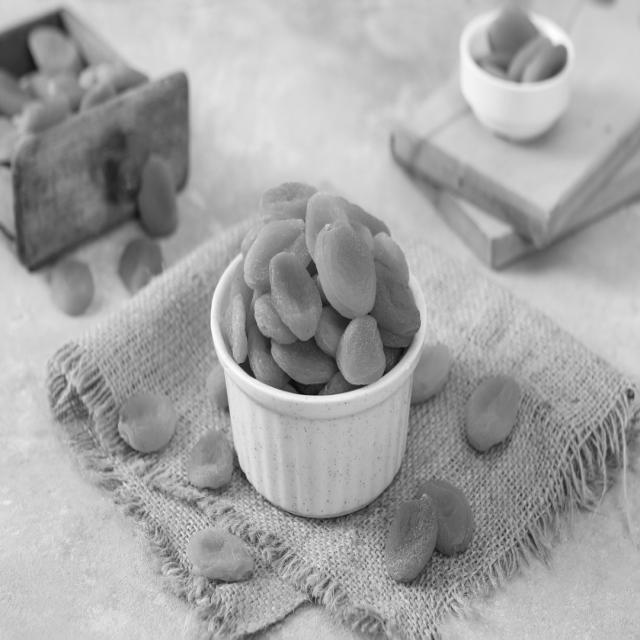Kayisi: (319, 220, 376, 318), (385, 495, 435, 585), (271, 253, 323, 337), (466, 376, 521, 451), (186, 530, 254, 582), (121, 395, 174, 457), (188, 431, 234, 483)
